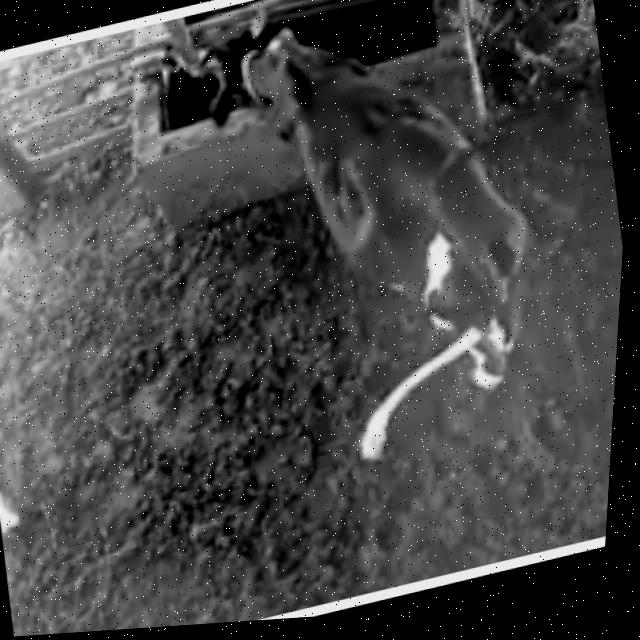drink: (149, 0, 362, 149)
